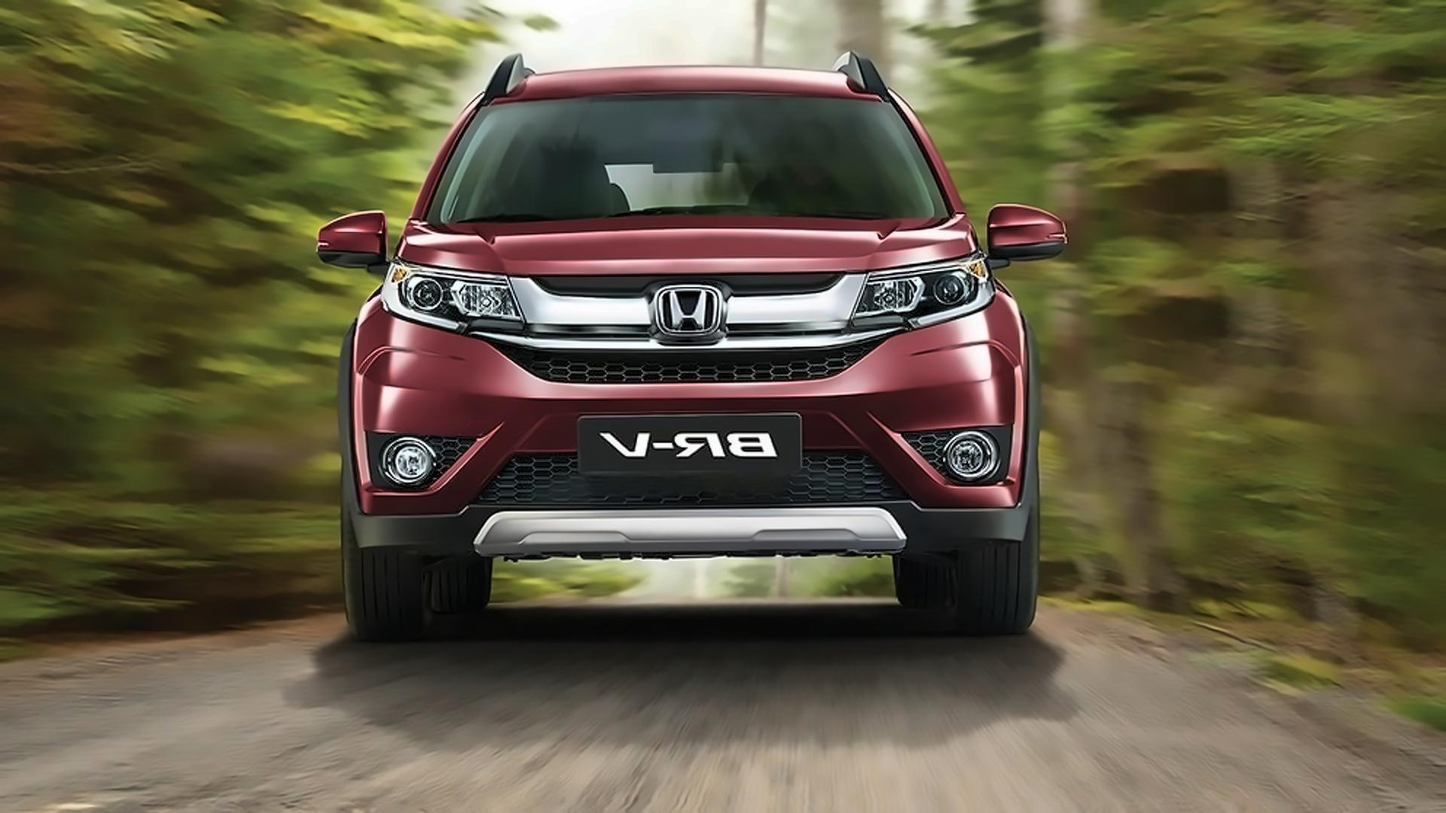Car hood: (392, 213, 972, 279)
Front bumper: (338, 294, 1035, 551)
Headlight - -L-: (841, 252, 993, 335)
Headlight - -R-: (379, 256, 531, 334)
Side mirror - -R-: (314, 211, 404, 276), (982, 202, 1065, 266)
